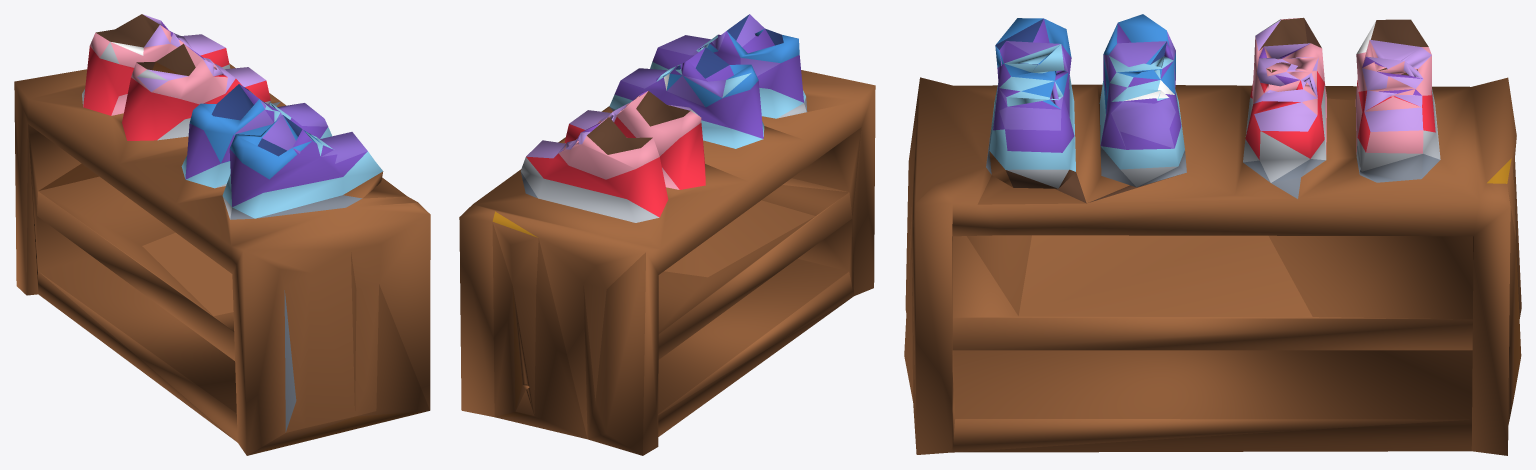
File: SM_shoe_rack.glb
3 renders of one model, left to right at view 1: azimuth 30°, elevation 25°; view 2: azimuth 150°, elevation 25°; view 3: azimuth 270°, elevation 25°, orthographic. The views are drawn at different scales.
Visible parts, largest first — view 1: SM_shoe_rack; view 2: SM_shoe_rack; view 3: SM_shoe_rack.
Boxes of the visible parts, <box> form: SM_shoe_rack: <box>14,14,430,455</box>; SM_shoe_rack: <box>459,14,875,455</box>; SM_shoe_rack: <box>904,14,1521,455</box>.
Bounding box in the file's own units: 0.3863 × 0.55 × 0.8594.
1 material, 1 textured.
